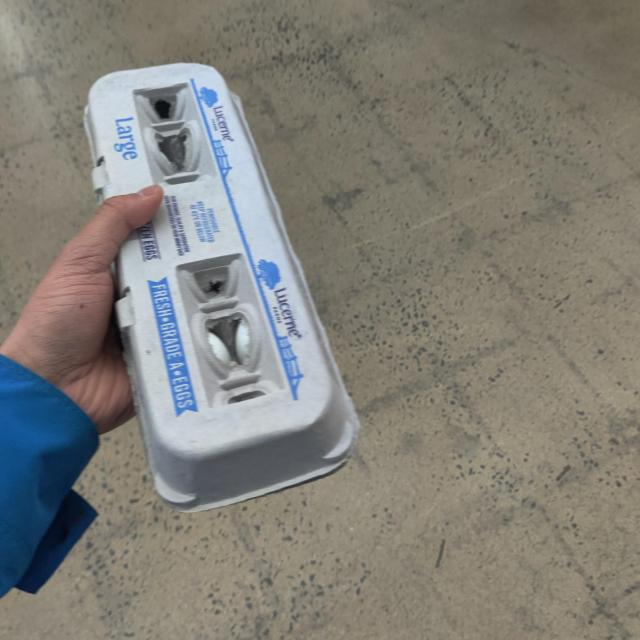Eggs: (86, 66, 361, 514)
